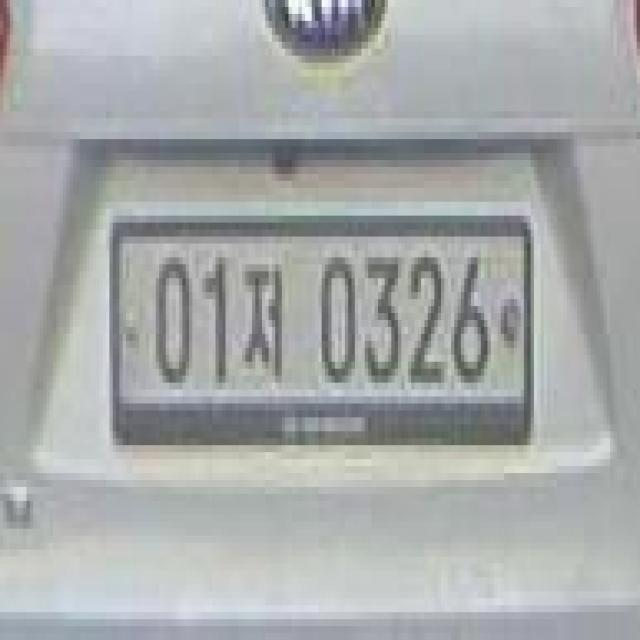illegal_plate: (103, 200, 539, 467)
